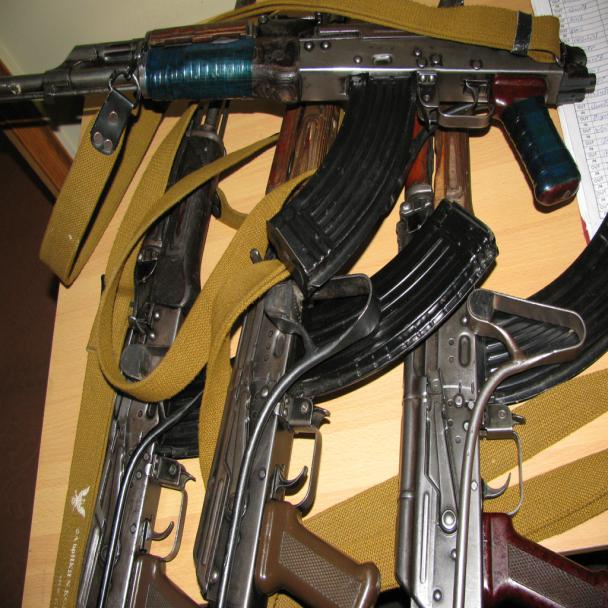Gun: (0, 4, 603, 294), (395, 95, 607, 607), (188, 97, 396, 605), (62, 14, 228, 604)
